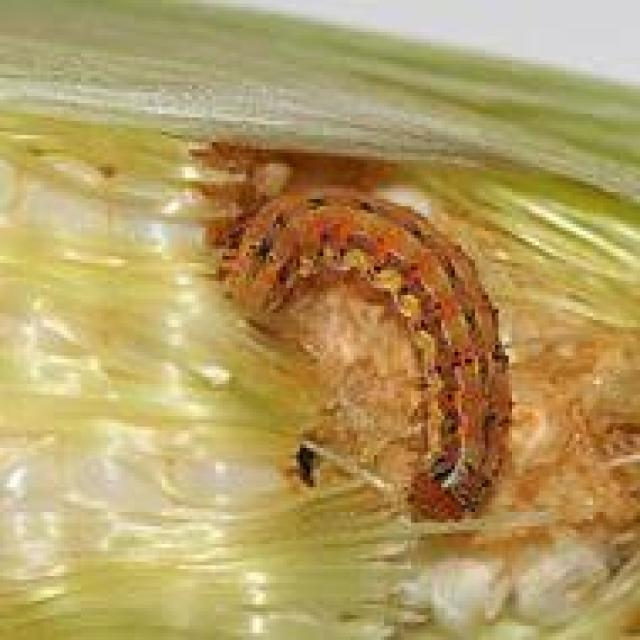Corn-earworm: (226, 186, 506, 521)
